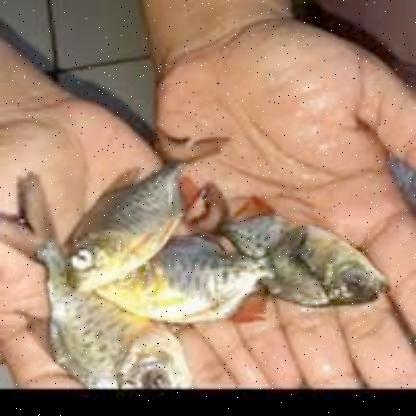ikan-pacu: (62, 158, 190, 290)
